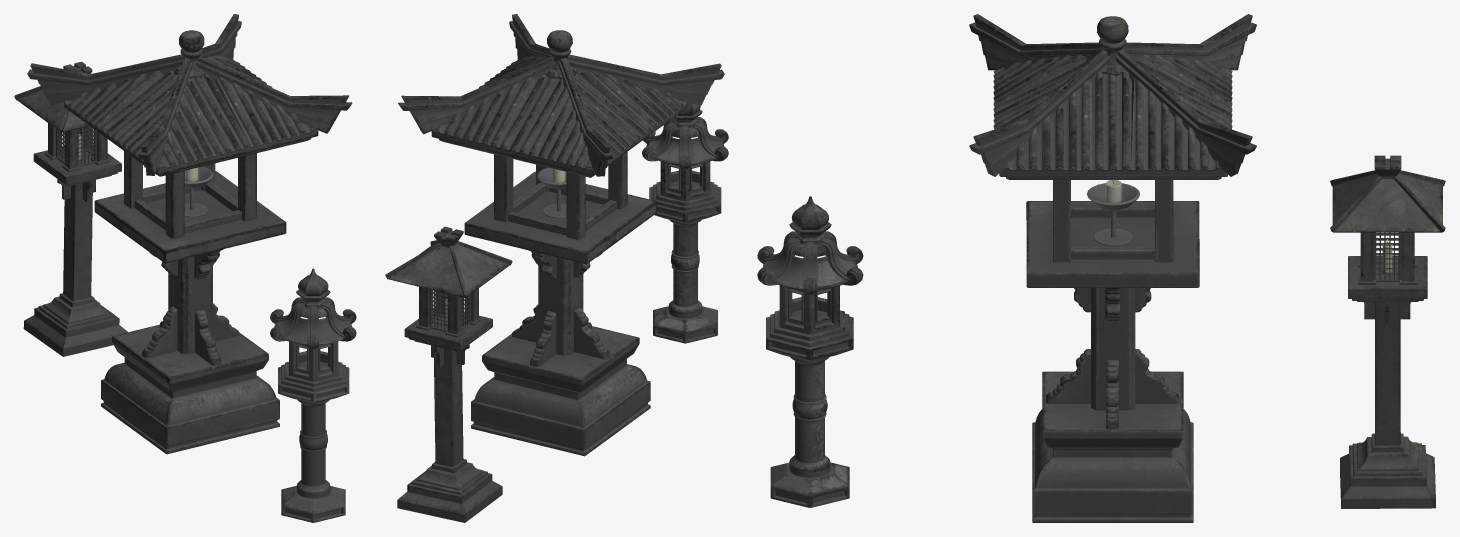
The model's file is stone_lamp.glb.
3 views of the same model, side by side, from view 1: azimuth 30°, elevation 25°; view 2: azimuth 150°, elevation 25°; view 3: azimuth 270°, elevation 25° (orthographic). The views are drawn at different scales.
Visible parts, largest first — view 1: CTI Stone Lamp 01.Shape, CTI Stone Lamp 02.Shape, CTI Stone Lamp 03.Shape; view 2: CTI Stone Lamp 01.Shape, CTI Stone Lamp 02.Shape, CTI Stone Lamp 03.Shape; view 3: CTI Stone Lamp 01.Shape, CTI Stone Lamp 02.Shape, CTI Stone Lamp 03.Shape.
Boxes of the visible parts, bbox=[...] form: CTI Stone Lamp 01.Shape: bbox=[27, 14, 352, 454]; CTI Stone Lamp 02.Shape: bbox=[14, 61, 127, 356]; CTI Stone Lamp 03.Shape: bbox=[270, 268, 356, 522]; CTI Stone Lamp 01.Shape: bbox=[398, 14, 724, 456]; CTI Stone Lamp 02.Shape: bbox=[385, 226, 512, 522]; CTI Stone Lamp 03.Shape: bbox=[642, 102, 728, 343]; CTI Stone Lamp 01.Shape: bbox=[969, 14, 1256, 522]; CTI Stone Lamp 02.Shape: bbox=[1330, 155, 1445, 508]; CTI Stone Lamp 03.Shape: bbox=[757, 196, 863, 507].
Bounding box in the file's own units: 1.44 × 2.46 × 3.26.
5 materials, 5 textured.
